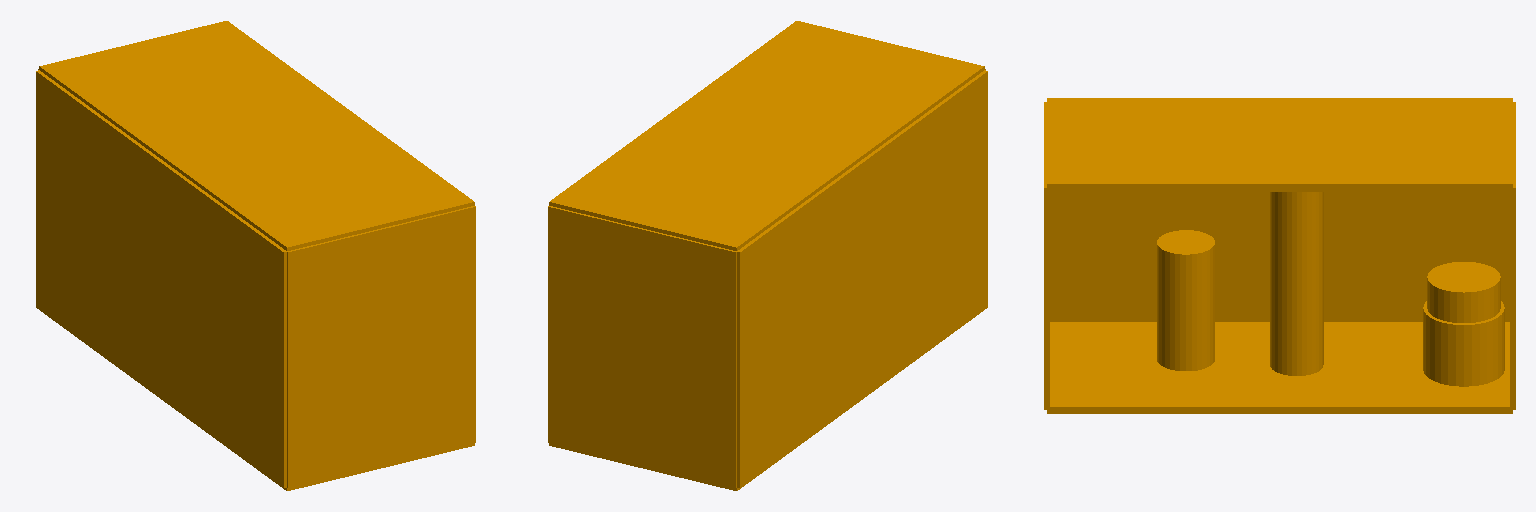
robot.urdf — syn_can_cabinet_831:
<?xml version="1.0" ?>
<robot name="syn_can_cabinet_831">
    <link concave="yes" name="base_link">
        <inertial>
            <origin rpy="0 0 0" xyz="0 0 0"/>
            <mass value="0.0"/>
            <inertia ixx="1e-08" ixy="0" ixz="0" iyy="1e-08" iyz="0" izz="1e-08"/>
        </inertial>
        <visual>
            <origin xyz="0 0 0" rpy="0 0 0" />
            <geometry>
                <mesh filename="syn_can_cabinet_831.obj" scale="1.000000 1.000000 1.000000"/>
            </geometry>         
        </visual>

        <collision concave="yes">
            <origin xyz="0 0 0" rpy="0 0 0"/>
            <geometry>
                <mesh filename="syn_can_cabinet_831.obj" scale="1.000000 1.000000 1.000000"/>
            </geometry>
        </collision>
    </link>
</robot>
    

--- Render facts (derived) ---
The picture shows the robot from 3 angles, left to right: view 1: azimuth 30°, elevation 25°; view 2: azimuth 150°, elevation 25°; view 3: azimuth 270°, elevation 25°; orthographic projection.
Robot: syn_can_cabinet_831 — 1 links, 0 joints (none); root link base_link; default pose: all joints at 0.
Links seen in each view (by area): view 1: base_link; view 2: base_link; view 3: base_link.
Boxes of the visible links, box(x1,y1,x2,y2) form: base_link: box(36, 21, 475, 490); base_link: box(548, 21, 987, 490); base_link: box(1044, 98, 1515, 413).
Size in the robot's own frame: 0.1589 by 0.3602 by 0.1935 metres.
Meshes: 1 distinct files referenced, 1 mesh visuals loaded (1 OBJ).
